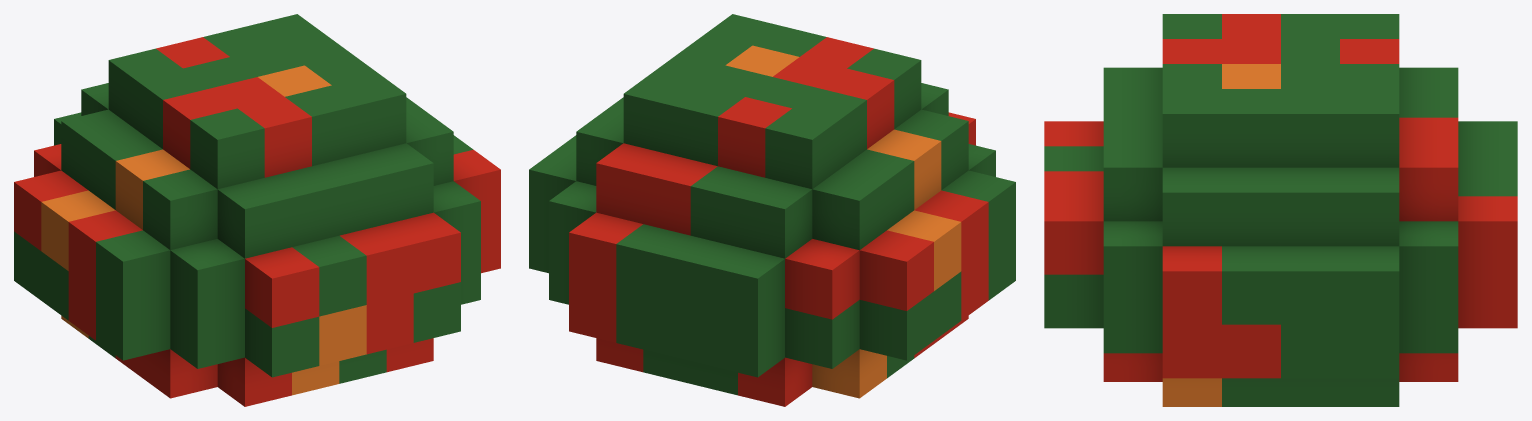
The model's file is r_spices.glb.
3 renders of one model, left to right at view 1: azimuth 30°, elevation 25°; view 2: azimuth 150°, elevation 25°; view 3: azimuth 270°, elevation 25°, orthographic. The views are drawn at different scales.
Parts seen in each view (by area): view 1: r_spices_body; view 2: r_spices_body; view 3: r_spices_body.
Part boxes in pixels (<box>): r_spices_body: <box>14,14,500,406</box>; r_spices_body: <box>529,14,1015,406</box>; r_spices_body: <box>1044,14,1517,406</box>.
Bounding box in the file's own units: 0.5 × 0.3125 × 0.5.
1 material, 1 textured.
